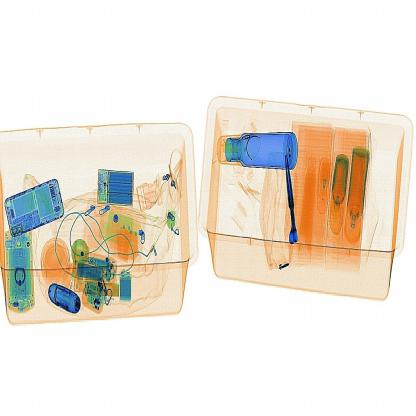gun: (270, 149, 307, 250)
